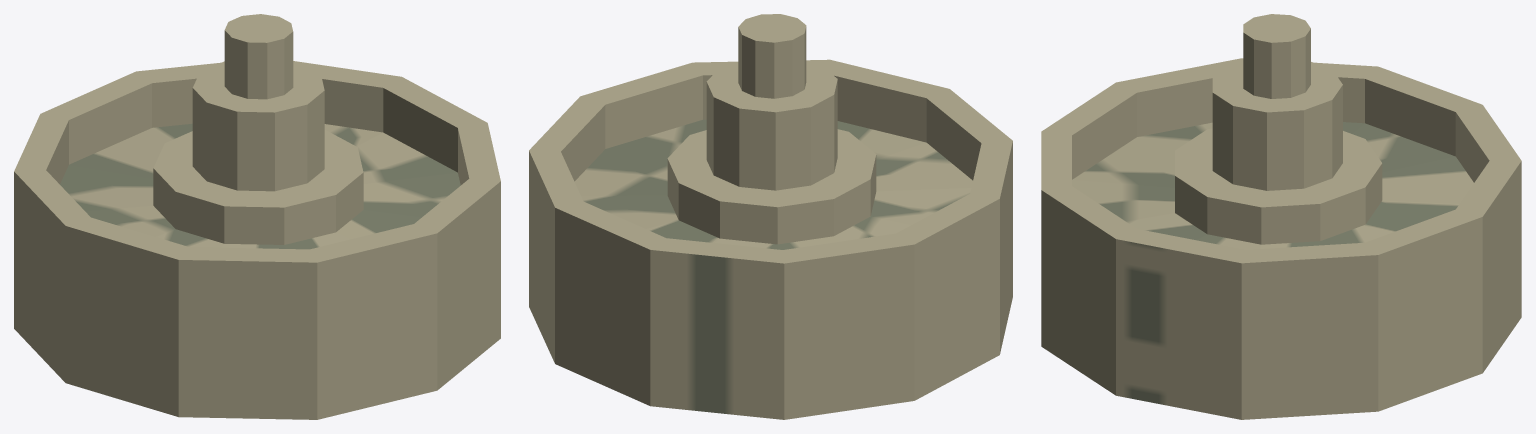
The model's file is water_fountain.fbx.
3 views of the same model, side by side, from view 1: azimuth 30°, elevation 25°; view 2: azimuth 150°, elevation 25°; view 3: azimuth 270°, elevation 25° (orthographic).
Visible parts, largest first — view 1: Cylinder; view 2: Cylinder; view 3: Cylinder.
Part boxes in pixels (x1,y1,x2,y2): Cylinder: [14, 14, 500, 419]; Cylinder: [529, 14, 1012, 419]; Cylinder: [1041, 14, 1521, 419].
Bounding box in the file's own units: 438 × 287 × 433.
